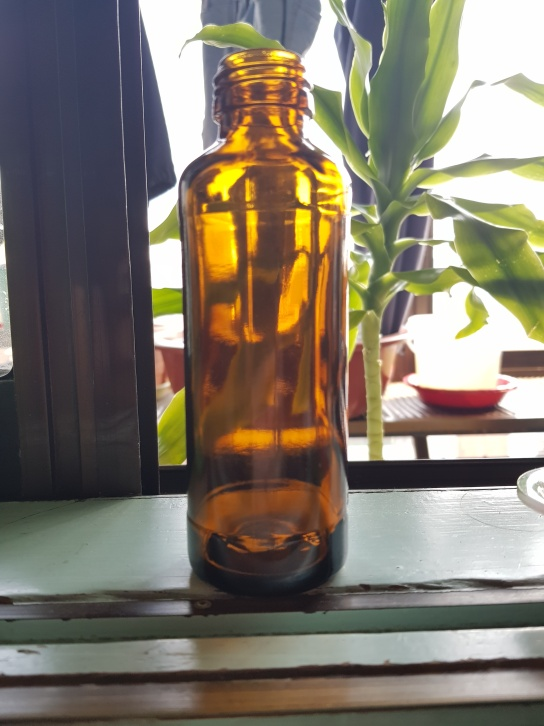Glass: (173, 48, 352, 597)
